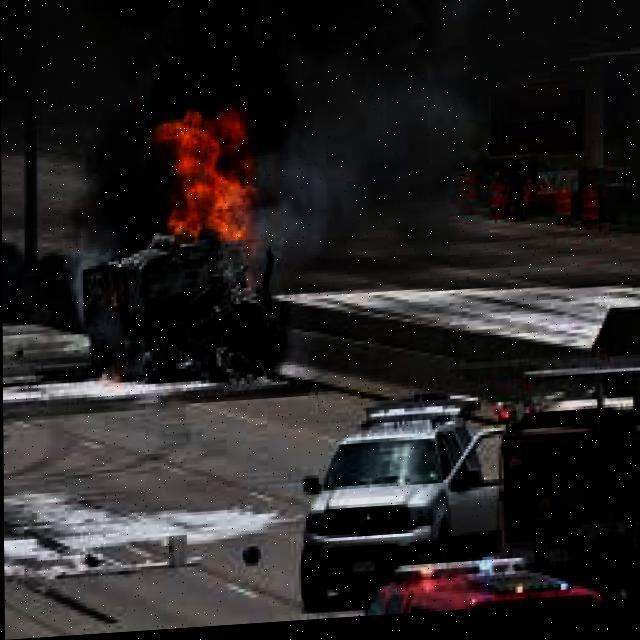Fire: (142, 102, 266, 255)
